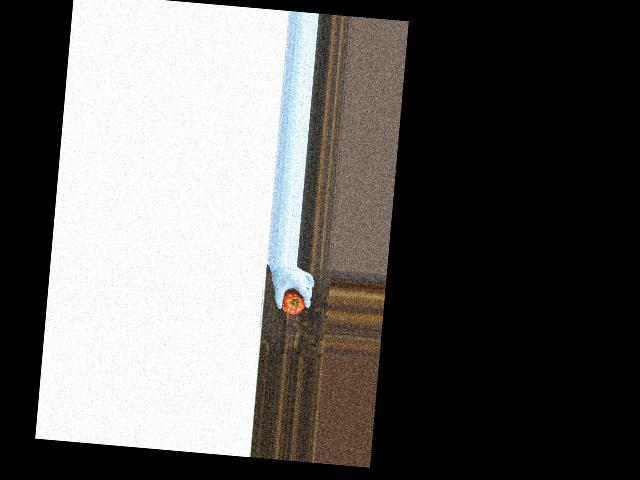tomato: (281, 289, 305, 316)
